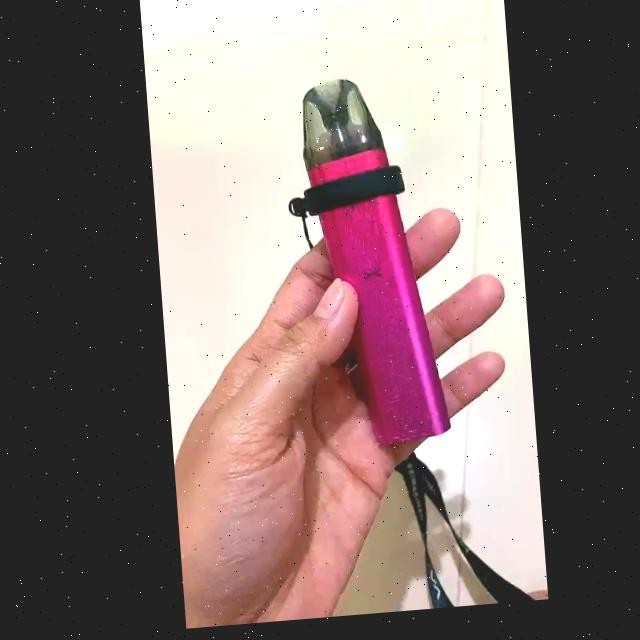vape: (295, 77, 444, 451)
